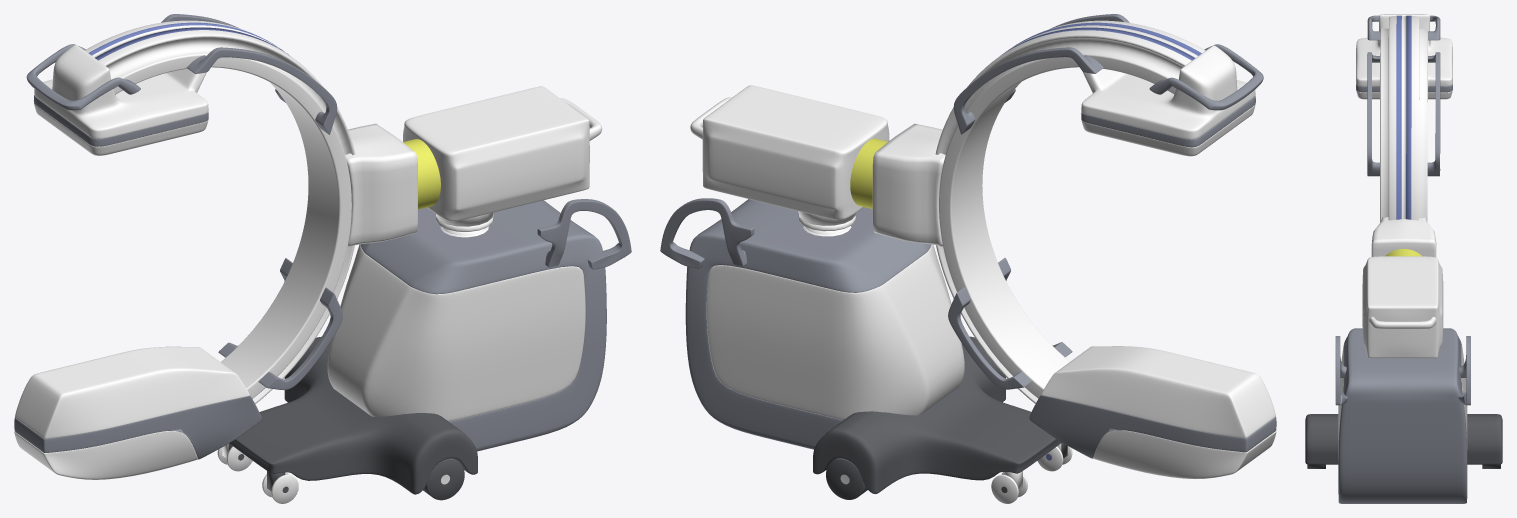
Rendered from cios.gltf.
The picture shows the model from 3 angles, left to right: view 1: azimuth 30°, elevation 25°; view 2: azimuth 150°, elevation 25°; view 3: azimuth 270°, elevation 25°; orthographic projection. The views are drawn at different scales.
Visible parts, largest first — view 1: Body, Arm, Joint; view 2: Body, Arm, Joint; view 3: Body, Arm, Joint.
Boxes of the visible parts, box(x1,y1,x2,y2) form: Body: box(217, 86, 631, 503); Arm: box(14, 14, 355, 479); Joint: box(345, 123, 440, 246); Body: box(660, 85, 1072, 503); Arm: box(935, 14, 1276, 478); Joint: box(850, 123, 945, 246); Body: box(1305, 256, 1502, 503); Arm: box(1356, 14, 1452, 222); Joint: box(1371, 217, 1436, 257).
Bounding box in the file's own units: 2.04 × 1.67 × 0.8417.
